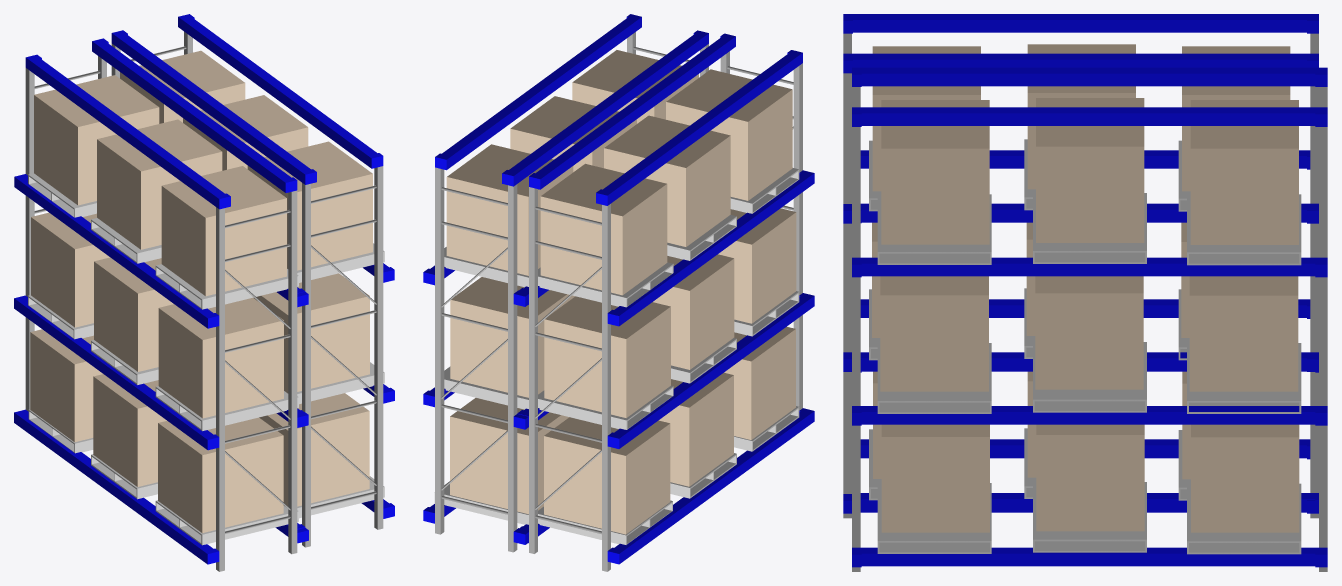
File: 3d_rack.glb
3 views of the same model, side by side, from view 1: azimuth 30°, elevation 25°; view 2: azimuth 150°, elevation 25°; view 3: azimuth 270°, elevation 25° (orthographic). The views are drawn at different scales.
Parts seen in each view (by area): view 1: box.001, box.005, box.007, box, box.002, box.014, box.016, box.011, box.004, box.003, box.006, box.008 (+26 smaller); view 2: box.002, box.003, box.008, box, box.001, box.012, box.017, box.010, box.004, box.005, box.006, box.007 (+26 smaller); view 3: box.014, box.012, box.013, box.017, box.016, box.015, box.010, box.011, box.009, _8__beam.012, _8__beam.008, _8__beam.004 (+34 smaller).
Boxes of the visible parts, x1,y1,x2,y2 form: box.001: [161, 166, 286, 296]; box.005: [158, 297, 283, 418]; box.007: [158, 417, 283, 533]; box: [97, 119, 222, 249]; box.002: [34, 75, 159, 205]; box.014: [247, 141, 372, 270]; box.016: [253, 273, 369, 393]; box.011: [259, 393, 369, 506]; box.004: [94, 257, 173, 371]; box.003: [31, 212, 109, 327]; box.006: [93, 374, 166, 486]; box.008: [30, 329, 102, 442]; box.002: [540, 163, 667, 295]; box.003: [544, 296, 670, 417]; box.008: [544, 417, 670, 534]; box: [604, 115, 730, 246]; box.001: [666, 69, 792, 200]; box.012: [446, 144, 573, 275]; box.017: [450, 277, 574, 397]; box.010: [450, 398, 569, 514]; box.004: [653, 254, 734, 369]; box.005: [718, 208, 796, 323]; box.006: [659, 372, 733, 486]; box.007: [724, 326, 795, 439]; box.014: [881, 100, 989, 244]; box.012: [1190, 100, 1298, 244]; box.013: [1036, 98, 1144, 242]; box.017: [1189, 276, 1298, 391]; box.016: [880, 276, 988, 391]; box.015: [1035, 276, 1143, 389]; box.010: [1191, 424, 1299, 532]; box.011: [881, 424, 989, 532]; box.009: [1036, 424, 1144, 531]; _8__beam.012: [852, 67, 1327, 86]; _8__beam.008: [852, 107, 1327, 126]; _8__beam.004: [843, 14, 1318, 33].
Bounding box in the file's own units: 94.9 × 177 × 170.
